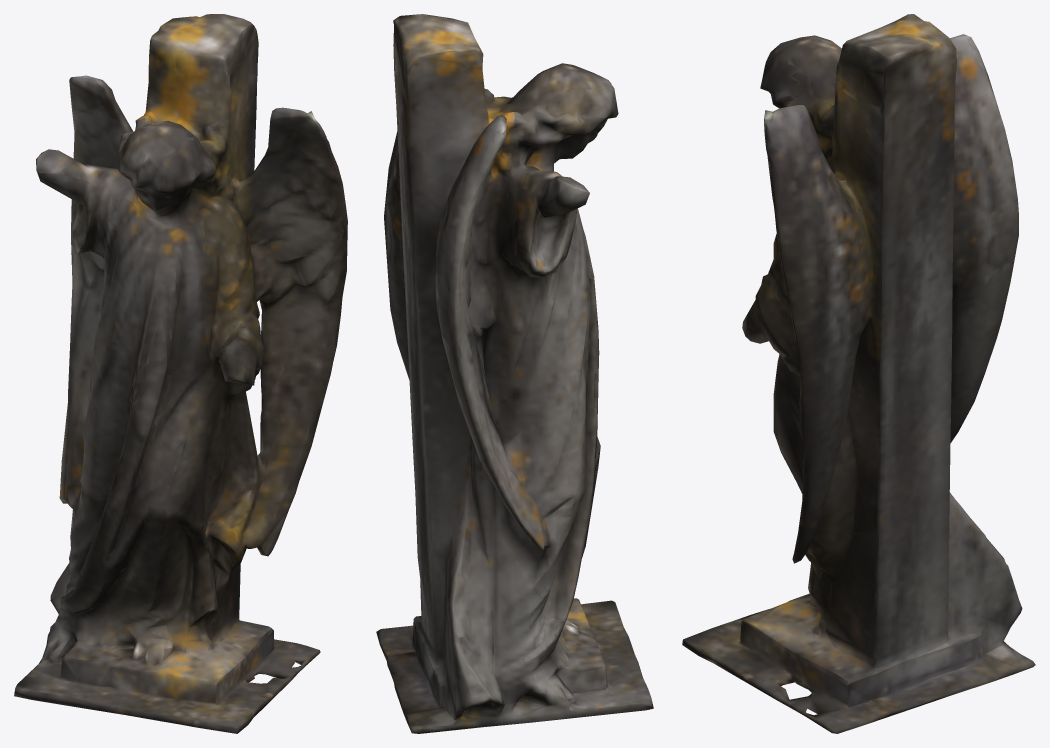
3 renders of one model, left to right at view 1: azimuth 30°, elevation 25°; view 2: azimuth 150°, elevation 25°; view 3: azimuth 270°, elevation 25°, orthographic. The views are drawn at different scales.
Parts seen in each view (by area): view 1: Object_2; view 2: Object_2; view 3: Object_2.
Part boxes in pixels (<box>): Object_2: <box>14,14,347,733</box>; Object_2: <box>376,14,653,733</box>; Object_2: <box>682,14,1035,733</box>.
Size of the model in its own units: 7.98 by 16.22 by 7.91.
Materials: 1 (1 with a texture image).
